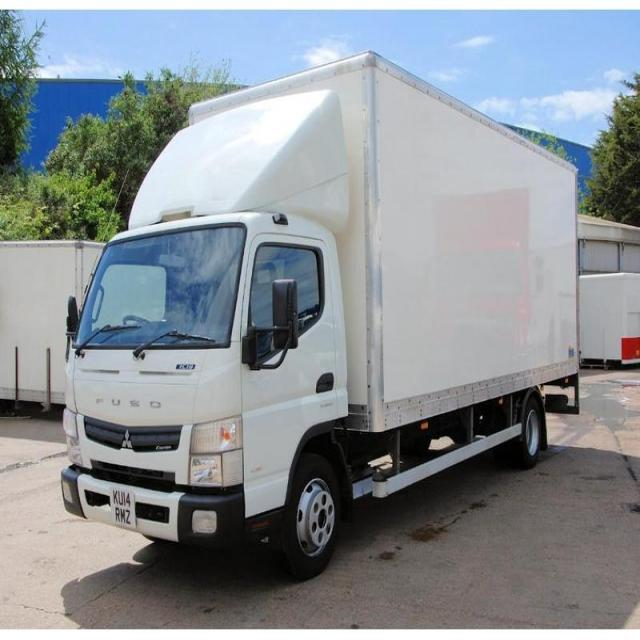truck: (63, 52, 582, 575)
